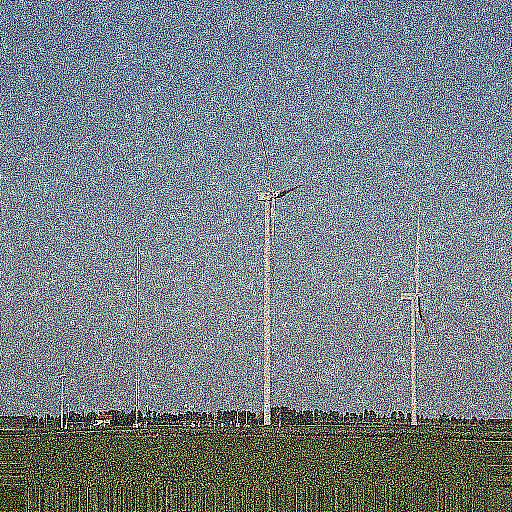wind turbine: (248, 88, 304, 433), (401, 201, 433, 429)
